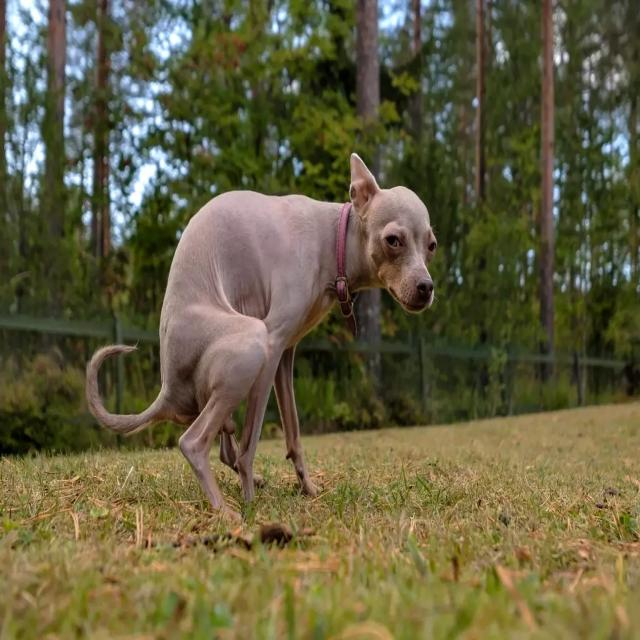Dogpoop: (83, 164, 436, 517)
